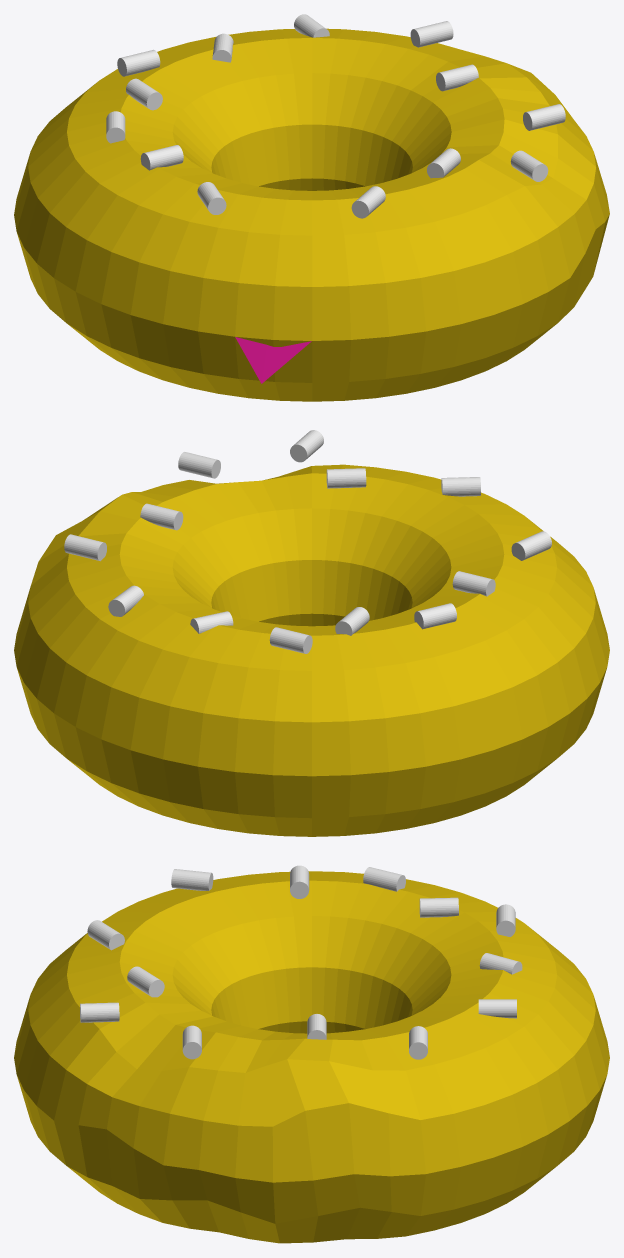
File: pon4ik2.glb
The picture shows the model from 3 angles, top to bottom: view 1: azimuth 30°, elevation 25°; view 2: azimuth 150°, elevation 25°; view 3: azimuth 270°, elevation 25°; orthographic projection.
Parts seen in each view (by area): view 1: Тор, Тор.001, Циліндр.004, Циліндр.005, Циліндр.007, Циліндр.010, Циліндр.001, Циліндр.009, Циліндр.011, Циліндр.008, Циліндр, Циліндр.006 (+2 smaller); view 2: Тор, Циліндр.007, Циліндр.005, Циліндр.004, Циліндр, Циліндр.002, Циліндр.001, Циліндр.010, Циліндр.008, Циліндр.006, Циліндр.009, Циліндр.003 (+2 smaller); view 3: Тор, Циліндр.006, Циліндр.009, Циліндр.011, Циліндр.002, Циліндр, Циліндр.003, Циліндр.008, Циліндр.005, Циліндр.012, Циліндр.010, Циліндр.007 (+1 smaller).
Boxes of the visible parts, box(x1,y1,x2,y2) form: Тор: box(14, 28, 609, 401); Тор.001: box(235, 337, 311, 383); Циліндр.004: box(410, 21, 453, 47); Циліндр.005: box(523, 104, 565, 130); Циліндр.007: box(117, 49, 160, 76); Циліндр.010: box(140, 145, 183, 170); Циліндр.001: box(436, 64, 478, 91); Циліндр.009: box(510, 150, 548, 181); Циліндр.011: box(126, 78, 162, 110); Циліндр.008: box(351, 186, 385, 218); Циліндр: box(427, 148, 460, 178); Циліндр.006: box(197, 182, 226, 214); Тор: box(14, 464, 609, 836); Циліндр.007: box(269, 627, 312, 653); Циліндр.005: box(178, 452, 220, 478); Циліндр.004: box(64, 534, 106, 561); Циліндр: box(326, 468, 366, 488); Циліндр.002: box(414, 603, 456, 629); Циліндр.001: box(140, 503, 183, 530); Циліндр.010: box(452, 571, 495, 596); Циліндр.008: box(441, 477, 480, 496); Циліндр.006: box(511, 531, 551, 560); Циліндр.009: box(290, 430, 323, 462); Циліндр.003: box(108, 585, 143, 616); Тор: box(14, 871, 609, 1243); Циліндр.006: box(171, 869, 213, 890); Циліндр.009: box(80, 1002, 119, 1022); Циліндр.011: box(419, 897, 458, 917); Циліндр.002: box(363, 867, 405, 891); Циліндр: box(127, 966, 164, 997); Циліндр.003: box(478, 999, 516, 1018); Циліндр.008: box(87, 920, 124, 950); Циліндр.005: box(182, 1025, 201, 1059); Циліндр.012: box(479, 953, 522, 974); Циліндр.010: box(290, 865, 309, 898); Циліндр.007: box(496, 904, 515, 936).
Bounding box in the file's own units: 3.1 × 1.17 × 3.1.
